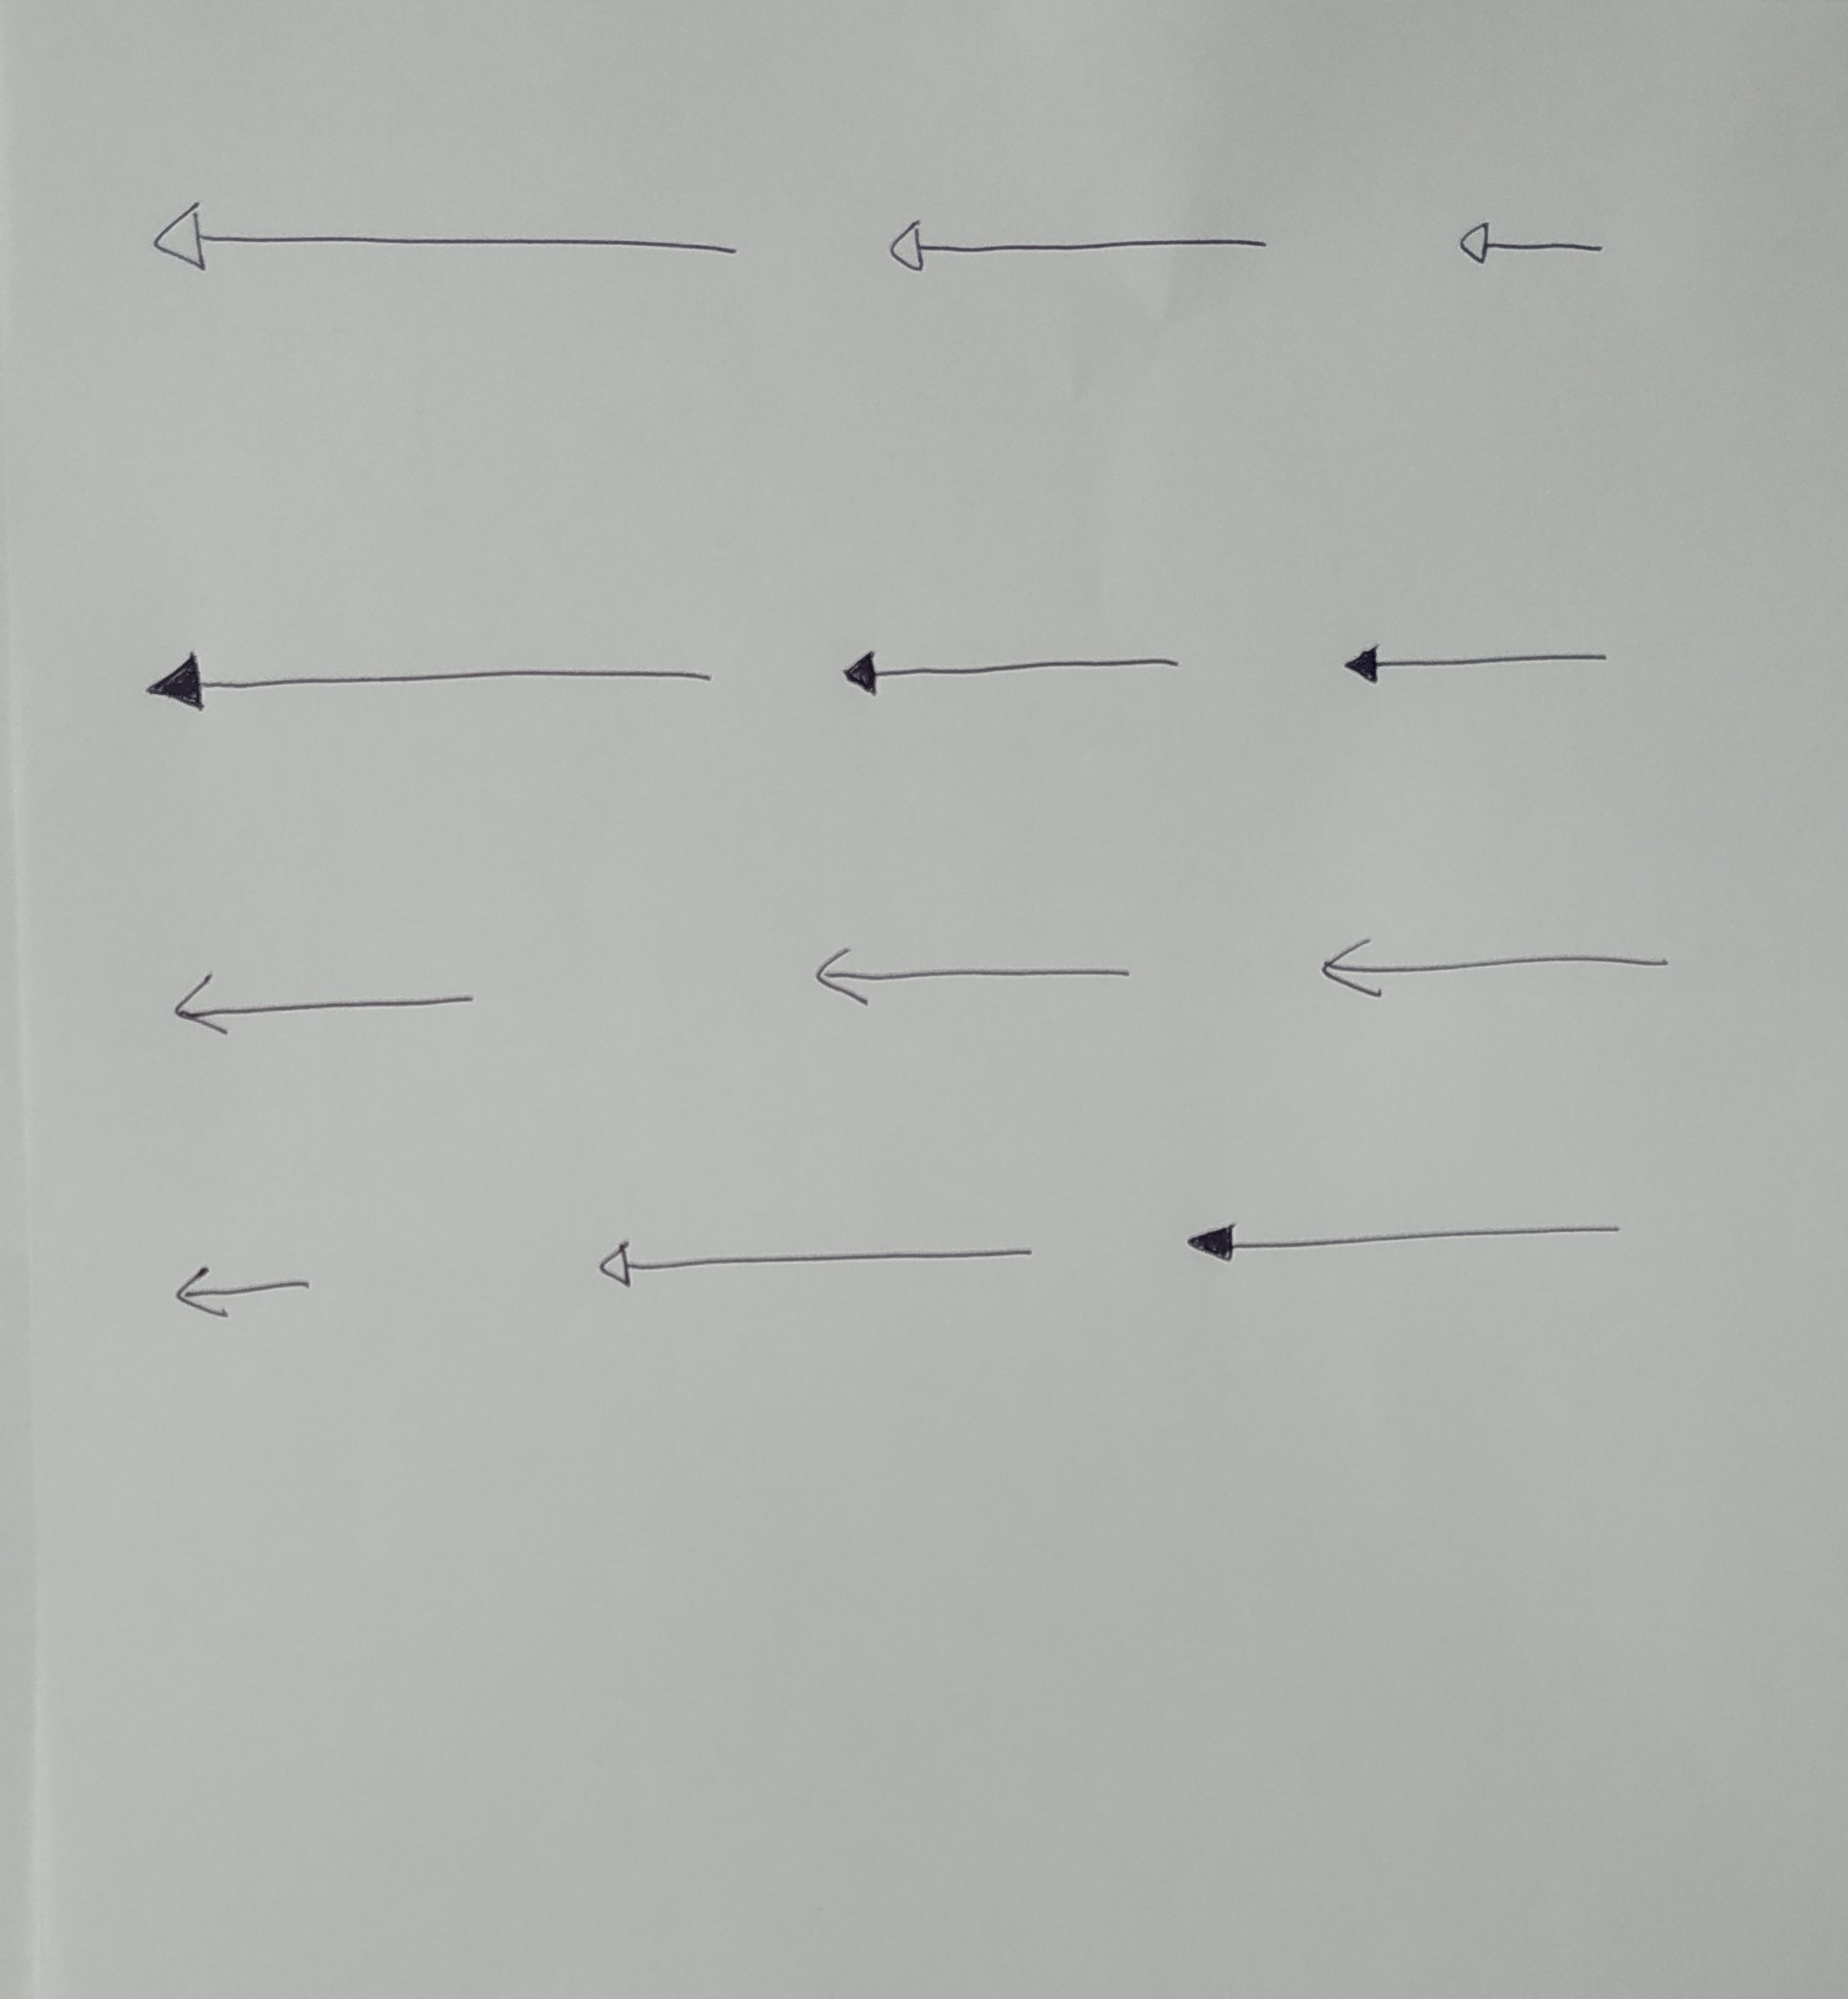arrow_line_left: (138, 190, 747, 289), (139, 637, 721, 719), (583, 1215, 1054, 1302), (1310, 914, 1679, 1015), (1169, 1195, 1634, 1268), (801, 926, 1134, 1019), (883, 214, 1277, 286), (833, 630, 1190, 709), (164, 958, 488, 1043), (1336, 630, 1622, 698), (1442, 202, 1618, 277), (158, 1259, 331, 1327)
